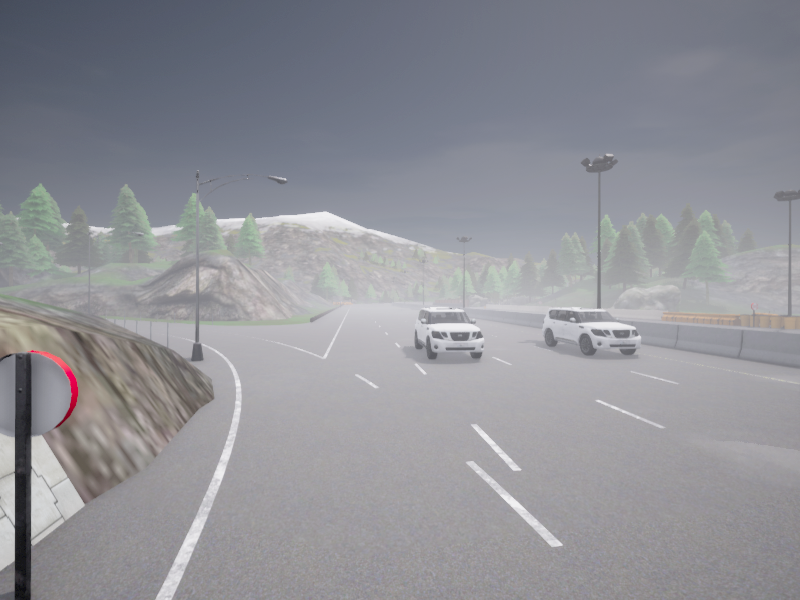vehicle: (542, 307, 640, 354), (414, 307, 483, 359)
